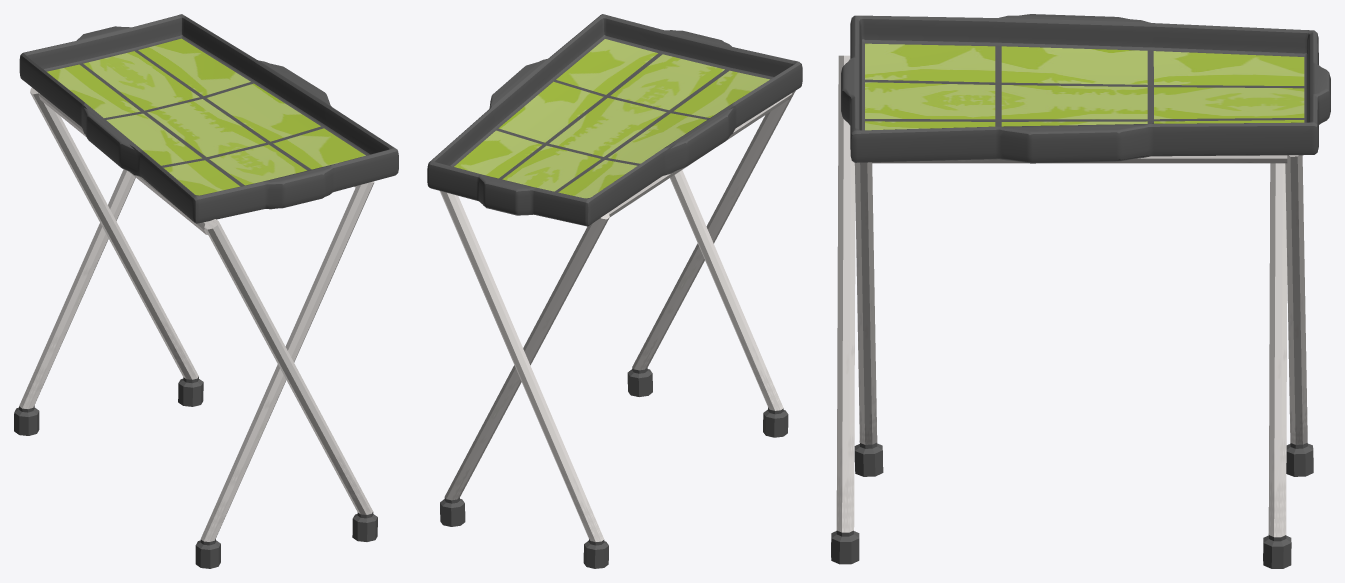
The model's file is dinner tray.fbx.
3 renders of one model, left to right at view 1: azimuth 30°, elevation 25°; view 2: azimuth 150°, elevation 25°; view 3: azimuth 270°, elevation 25°, orthographic. The views are drawn at different scales.
Parts seen in each view (by area): view 1: tray, pCylinder3, pCylinder6, pCylinder7, pCylinder4, leg_2; view 2: tray, pCylinder4, pCylinder7, pCylinder6, pCylinder3, leg_2; view 3: tray, pCylinder6, pCylinder7, pCylinder4, pCylinder3, leg_1.
Part boxes in pixels (x1,y1,x2,y2): tray: (19, 14, 398, 223); pCylinder3: (195, 181, 374, 568); pCylinder6: (204, 219, 377, 541); pCylinder7: (30, 87, 203, 406); pCylinder4: (14, 169, 135, 435); leg_2: (38, 94, 207, 234); tray: (427, 14, 802, 226); pCylinder4: (440, 191, 608, 568); pCylinder7: (440, 213, 609, 526); pCylinder6: (627, 90, 795, 396); pCylinder3: (670, 170, 788, 437); leg_2: (608, 93, 791, 216); tray: (841, 14, 1330, 163); pCylinder6: (831, 55, 859, 564); pCylinder7: (1263, 163, 1291, 568); pCylinder4: (1285, 155, 1313, 476); pCylinder3: (854, 162, 883, 476); leg_1: (872, 155, 1287, 163).
Bounding box in the file's own units: 19.01 × 33.08 × 33.36.
